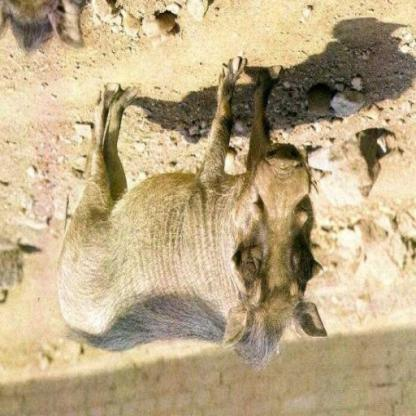boar: (56, 67, 328, 372)
